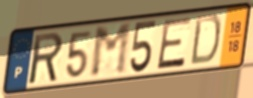5: (128, 18, 158, 75), (65, 28, 94, 79)
D: (188, 13, 223, 67)
E: (155, 15, 193, 72)
M: (89, 21, 133, 80)
R: (28, 30, 65, 87)
